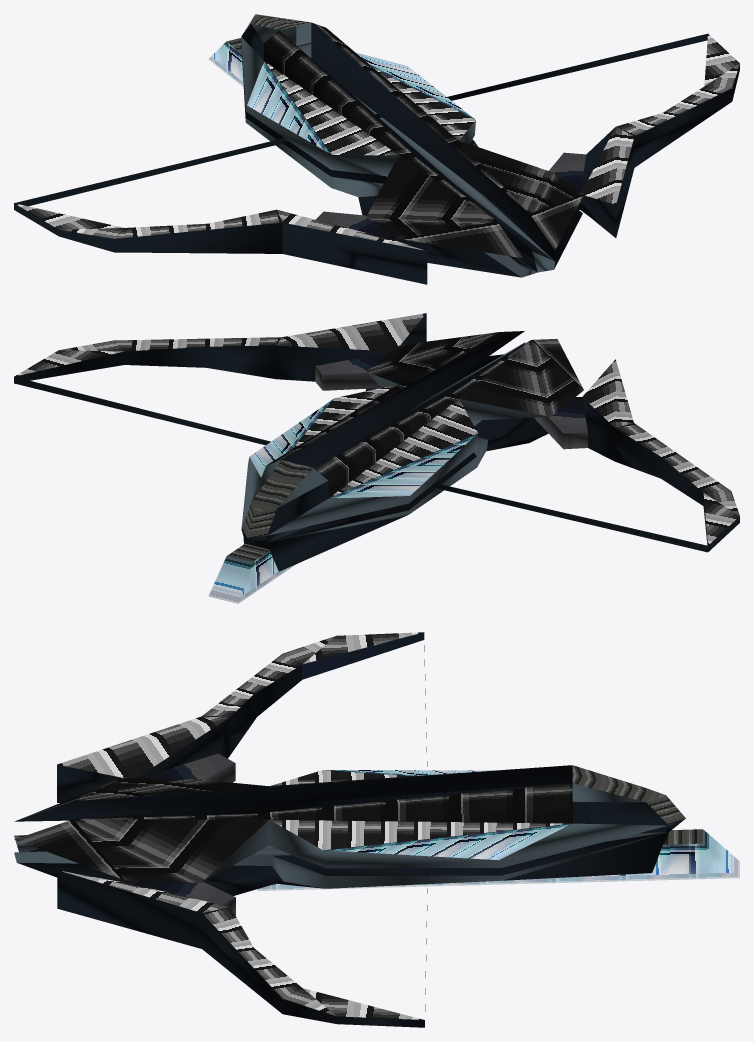
The model's file is 1a-crossbow-fp.glb.
The picture shows the model from 3 angles, top to bottom: view 1: azimuth 30°, elevation 25°; view 2: azimuth 150°, elevation 25°; view 3: azimuth 270°, elevation 25°; orthographic projection. The views are drawn at different scales.
Visible parts, largest first — view 1: gun; view 2: gun; view 3: gun.
Boxes of the visible parts, x1=… form: gun: x1=14, y1=14, x2=739, y2=284; gun: x1=14, y1=313, x2=739, y2=603; gun: x1=14, y1=632, x2=739, y2=1027.
Bounding box in the file's own units: 389 × 50.48 × 308.
Materials: 7 (7 with a texture image).
